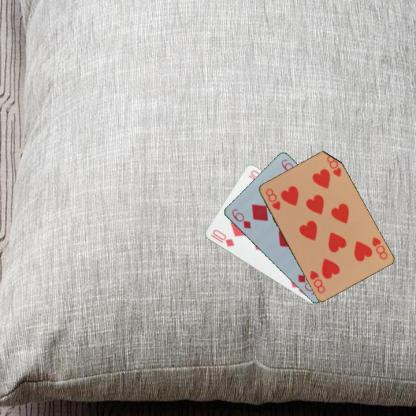10d: (208, 226, 235, 248)
6d: (229, 206, 252, 230)
8h: (262, 186, 282, 212), (369, 234, 388, 261)
